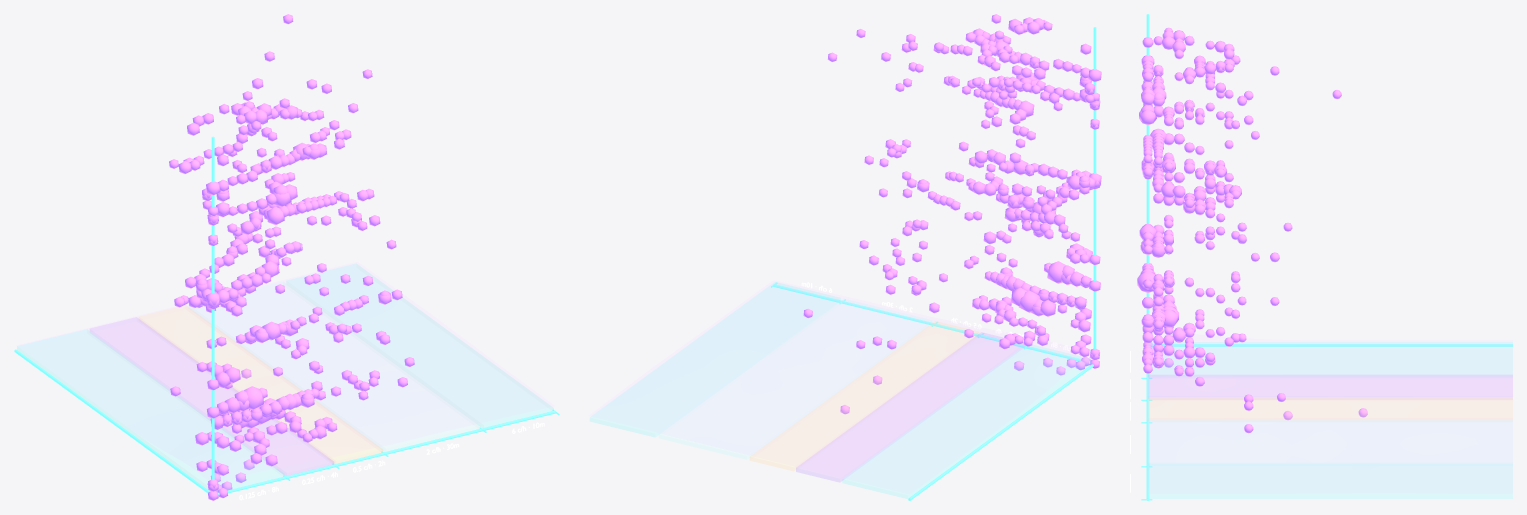
Rendered from cube_cgm.glb.
3 views of the same model, side by side, from view 1: azimuth 30°, elevation 25°; view 2: azimuth 150°, elevation 25°; view 3: azimuth 270°, elevation 25° (orthographic). The views are drawn at different scales.
Parts seen in each view (by area): view 1: cgm_BandLandscape, cgm_EnergyLobes, cgm_BandSlab_Fast metabolic, cgm_BandSlab_Circadian, cgm_BandSlab_Ultradian, cgm_BandSlab_Meal-related, cgm_Axis_fc, cgm_Axis_t, cgm_Axis_fam; view 2: cgm_BandLandscape, cgm_EnergyLobes, cgm_BandSlab_Fast metabolic, cgm_BandSlab_Circadian, cgm_BandSlab_Ultradian, cgm_BandSlab_Meal-related, cgm_Axis_fc, cgm_Axis_t, cgm_Axis_fam; view 3: cgm_BandLandscape, cgm_EnergyLobes, cgm_BandSlab_Fast metabolic, cgm_BandSlab_Circadian, cgm_BandSlab_Ultradian, cgm_BandSlab_Meal-related, cgm_Axis_fam, cgm_Axis_fc.
Part boxes in pixels (x1,y1,x2,y2): cgm_BandLandscape: (17,262,553,482); cgm_EnergyLobes: (169,14,414,500); cgm_BandSlab_Fast metabolic: (287,264,553,427); cgm_BandSlab_Circadian: (17,330,283,489); cgm_BandSlab_Ultradian: (90,317,333,475); cgm_BandSlab_Meal-related: (139,306,382,463); cgm_Axis_fc: (218,410,555,495); cgm_Axis_t: (211,136,214,480); cgm_Axis_fam: (14,349,209,493); cgm_BandLandscape: (591,281,1090,493); cgm_EnergyLobes: (803,14,1101,414); cgm_BandSlab_Fast metabolic: (590,282,839,436); cgm_BandSlab_Circadian: (843,345,1091,498); cgm_BandSlab_Ultradian: (796,333,1022,481); cgm_BandSlab_Meal-related: (750,321,978,470); cgm_Axis_fc: (773,284,1090,363); cgm_Axis_t: (1093,27,1096,349); cgm_Axis_fam: (908,364,1093,500); cgm_BandLandscape: (1148,335,1512,493); cgm_EnergyLobes: (1137,27,1367,433); cgm_BandSlab_Fast metabolic: (1148,464,1512,498); cgm_BandSlab_Circadian: (1150,342,1512,373); cgm_BandSlab_Ultradian: (1148,375,1512,396); cgm_BandSlab_Meal-related: (1148,397,1512,418); cgm_Axis_fam: (1152,344,1512,346); cgm_Axis_fc: (1146,373,1149,500).
Bounding box in the file's own units: 10.21 × 10.36 × 10.49.
